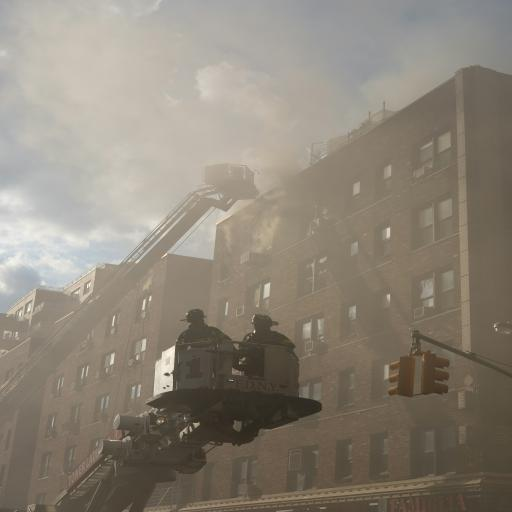smoke: (8, 7, 512, 435)
